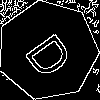D: (23, 25, 83, 82)
